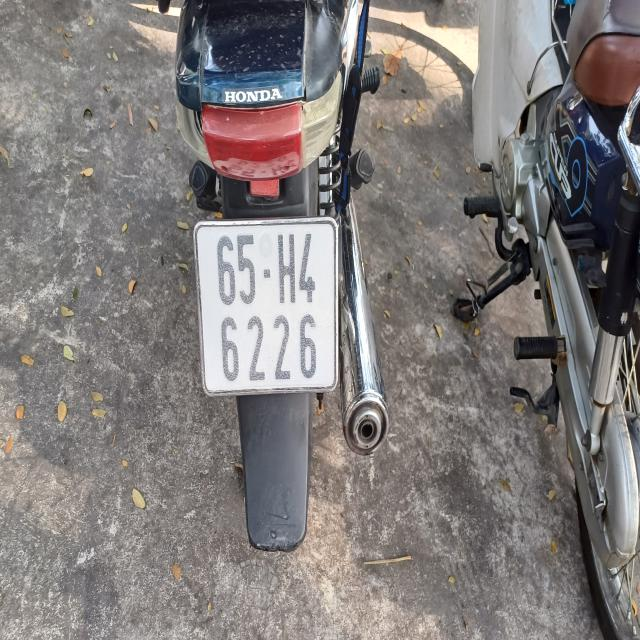2: (245, 315, 266, 382), (273, 314, 293, 382)
4: (298, 234, 318, 305)
5: (235, 231, 258, 304)
6: (298, 312, 320, 384), (218, 314, 240, 383), (216, 235, 236, 304)
H: (276, 234, 298, 302)
